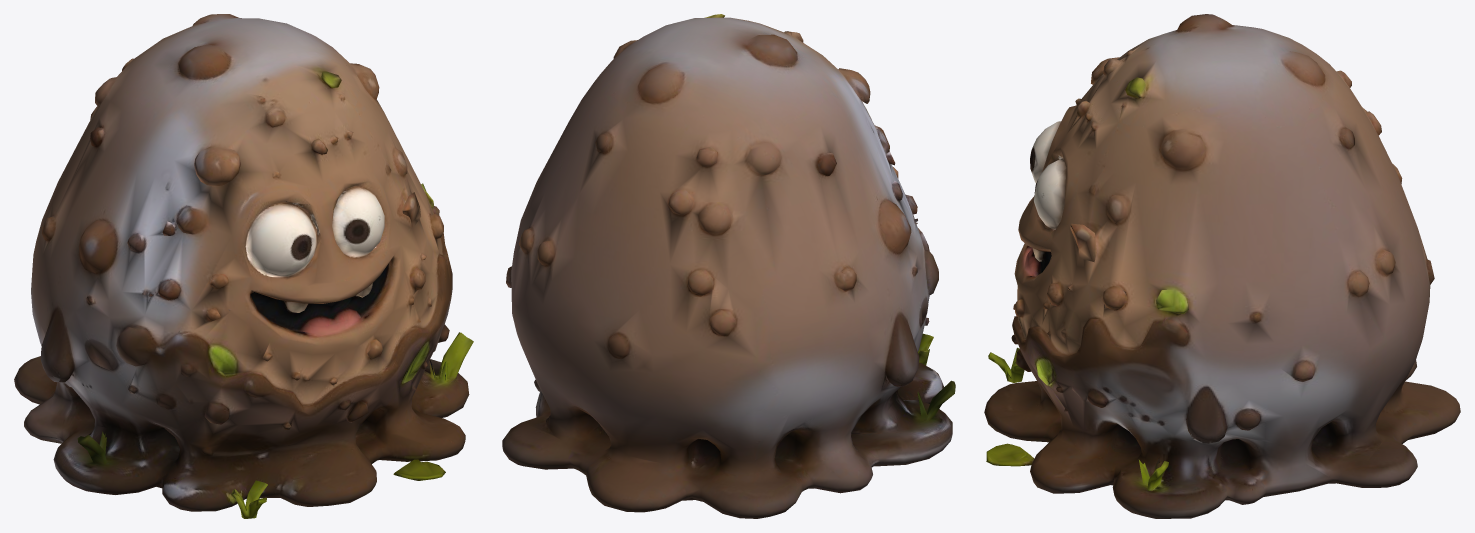
The model's file is C03_mud_slime_hy_lod.glb.
3 views of the same model, side by side, from view 1: azimuth 30°, elevation 25°; view 2: azimuth 150°, elevation 25°; view 3: azimuth 270°, elevation 25° (orthographic).
Visible parts, largest first — view 1: C03_mud_slime_hy; view 2: C03_mud_slime_hy; view 3: C03_mud_slime_hy.
Part boxes in pixels (x1,y1,x2,y2): C03_mud_slime_hy: (14,14,473,518); C03_mud_slime_hy: (502,14,955,518); C03_mud_slime_hy: (984,14,1460,518).
Size of what is drawn, in the model's own units: 0.8515 by 0.7821 by 0.869.
Materials: 1 (1 with a texture image).
